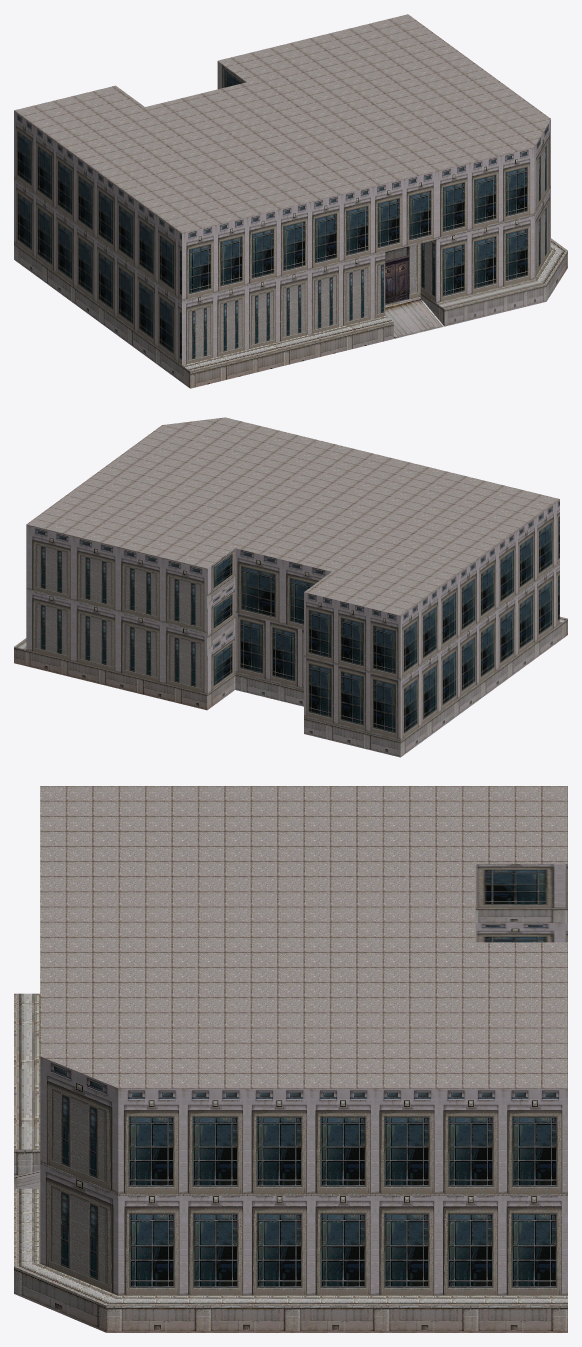
The model's file is M2Zone1_OfficeBlock4.glb.
3 views of the same model, one above another, from view 1: azimuth 30°, elevation 25°; view 2: azimuth 150°, elevation 25°; view 3: azimuth 270°, elevation 25° (orthographic). The views are drawn at different scales.
Parts seen in each view (by area): view 1: M2ZONE1_OFFICEBLOCK4; view 2: M2ZONE1_OFFICEBLOCK4; view 3: M2ZONE1_OFFICEBLOCK4.
Part boxes in pixels (x1,y1,x2,y2): M2ZONE1_OFFICEBLOCK4: [14, 14, 567, 388]; M2ZONE1_OFFICEBLOCK4: [14, 417, 567, 757]; M2ZONE1_OFFICEBLOCK4: [14, 786, 567, 1332].
Bounding box in the file's own units: 32 × 11.21 × 24.
5 materials, 5 textured.
